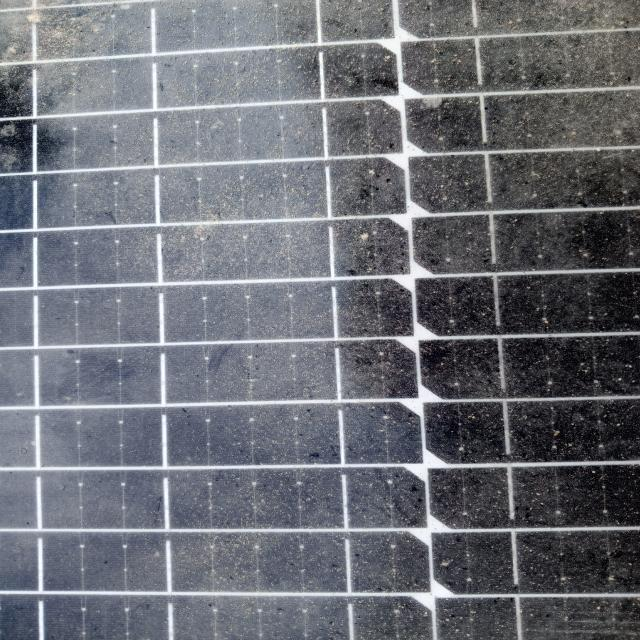Surface Contaminant: (27, 37, 622, 633)
